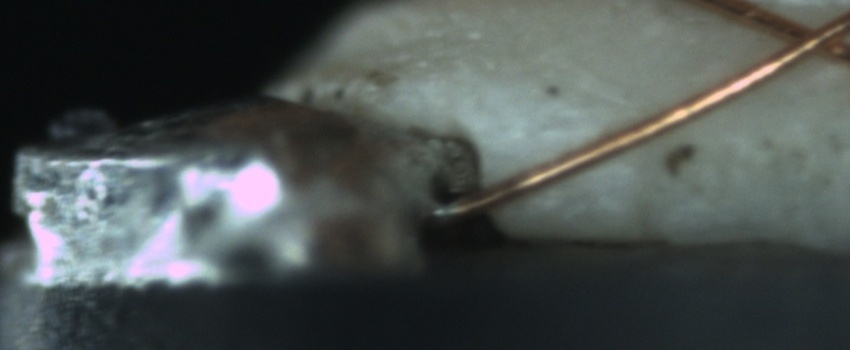CL: (764, 3, 846, 69)
